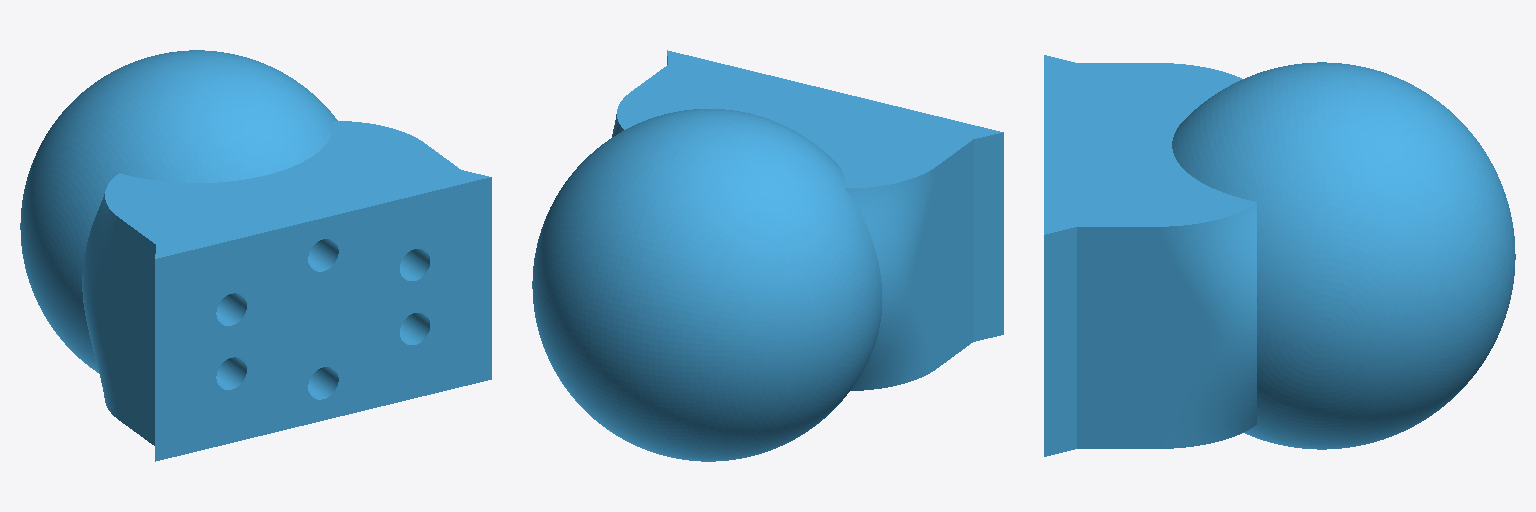
robot.urdf — test:
<!-- 同一 link 下多个 collision 几何重叠，本身通常不会触发“自碰撞”；它们会一起构成这个 link 的复合碰撞体 -->
<!-- 真正的风险不在“它们彼此撞上了”，而在“它们一起和外界接触时，接触法向、接触点数量、等效接触刚度变脏” -->
<!-- <inertial> 不写，Isaac Lab/Isaac Sim 不会简单把 link 变成“零质量不可动”，但会进入 importer/PhysX 的兜底逻辑；对指尖这种接触敏感部件，我不建议依赖这个兜底。 -->
<robot name="test">
  <link name="base_link"/>

  <joint name="tip_joint" type="fixed">
    <parent link="base_link"/>
    <child link="tip"/>
    <origin xyz="0 0 0" rpy="0 0 0"/>
  </joint>

  <link name="tip">
    <visual>
      <!-- 这一版对应 `joint_builders_custom.py` 里的算法之三：`round_finger_tip_soft.stl` 的 0.001 基准标定，底部中心对齐 joint 原点。 -->
      <origin xyz="-0.0164913187022 0 -0.00950986387389" rpy="0 -1.57079632679 0"/>
      <geometry>
        <mesh filename="round_finger_tip_soft.stl" scale="0.001 0.001 0.001"/>
      </geometry>
    </visual>
    <collision>
      <origin xyz="-0.0164913187022 0 -0.00950986387389" rpy="0 -1.57079632679 0"/>
      <geometry>
        <mesh filename="round_finger_tip_soft.stl" scale="0.001 0.001 0.001"/>
      </geometry>
    </collision>
  </link>
</robot>

--- Render facts (derived) ---
3 views of the same robot in one strip: view 1: azimuth 30°, elevation 25°; view 2: azimuth 150°, elevation 25°; view 3: azimuth 270°, elevation 25° (orthographic).
Robot: test — 2 links, 1 joints (1 fixed); root link base_link; default pose: all joints at 0.
Links seen in each view (by area): view 1: tip; view 2: tip; view 3: tip.
Boxes of the visible links, x1,y1,x2,y2 form: tip: (20,50,491,461); tip: (532,50,1003,461); tip: (1044,55,1515,456).
Size in the robot's own frame: 0.033 by 0.0365 by 0.03 metres.
1 mesh visuals loaded from 1 distinct referenced files (1 binary STL).
